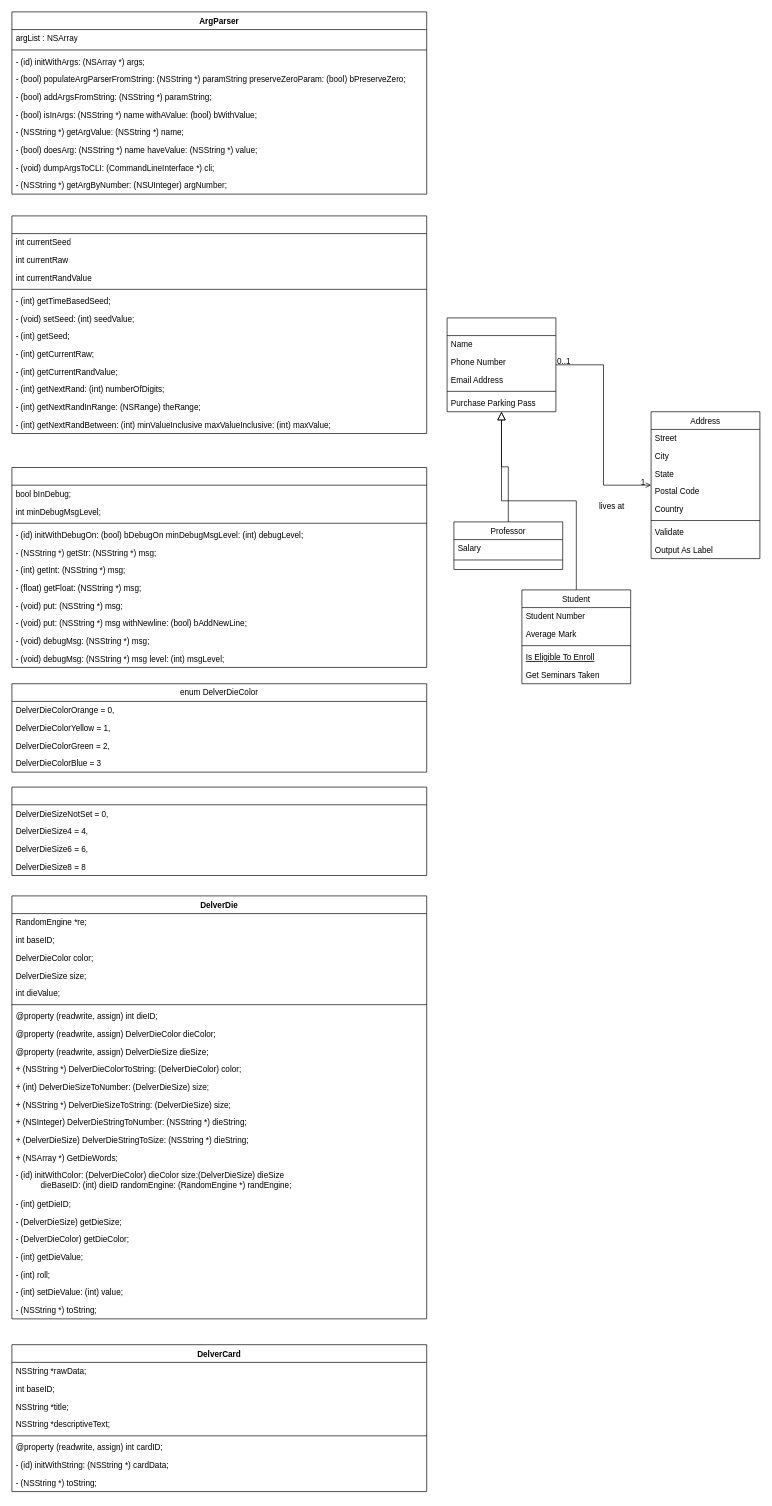
Some shapes in this 772 by 1506 pixel diagram are drawn without their labels. Here are the shapes that lost their labels. From the top down, the box of each, then its label:
(11, 215, 427, 434): RandomEngine
(446, 317, 556, 412): Person
(11, 467, 427, 667): CommandLineInterface
(11, 786, 427, 876): enum DelverDieSize
